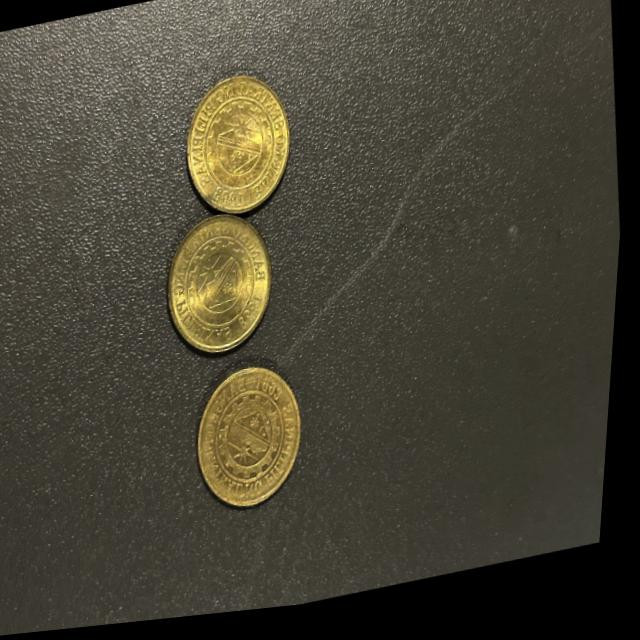25Cent_Old_Back: (170, 214, 278, 354), (180, 82, 285, 221), (199, 379, 305, 510)
